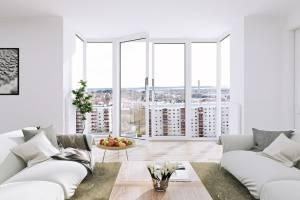window: (68, 29, 231, 140)
